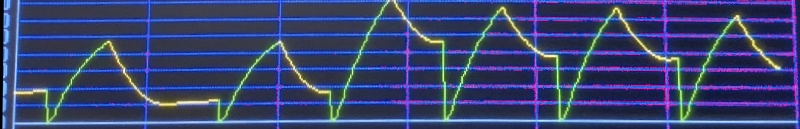leakage: (8, 0, 784, 127)
